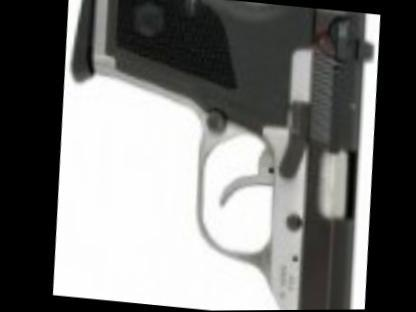pistol: (57, 0, 394, 311)
